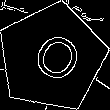O_SW: (21, 25, 83, 90)
